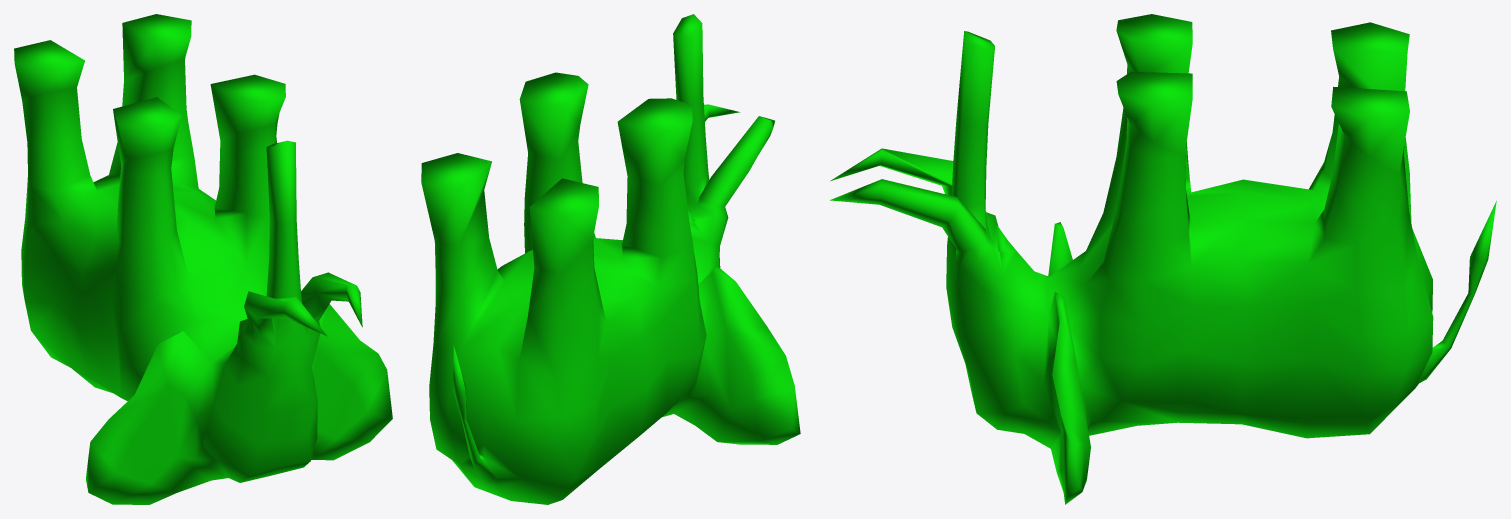
File: elephant1_1.dae
3 views of the same model, side by side, from view 1: azimuth 30°, elevation 25°; view 2: azimuth 150°, elevation 25°; view 3: azimuth 270°, elevation 25° (orthographic). The views are drawn at different scales.
Visible parts, largest first — view 1: elephant1; view 2: elephant1; view 3: elephant1.
Boxes of the visible parts, x1,y1,x2,y2 form: elephant1: (14, 14, 392, 504); elephant1: (421, 14, 800, 504); elephant1: (830, 14, 1496, 504).
Bounding box in the file's own units: 0.2121 × 0.3641 × 0.2496.
